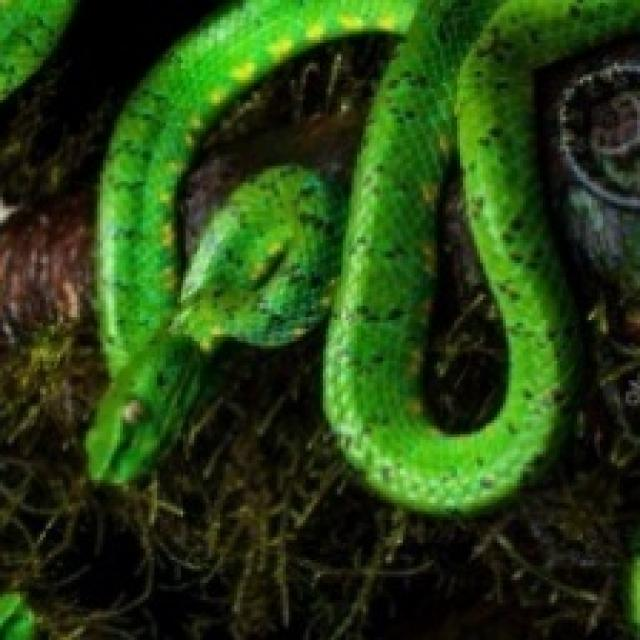philippine pitviper: (86, 0, 637, 511)
